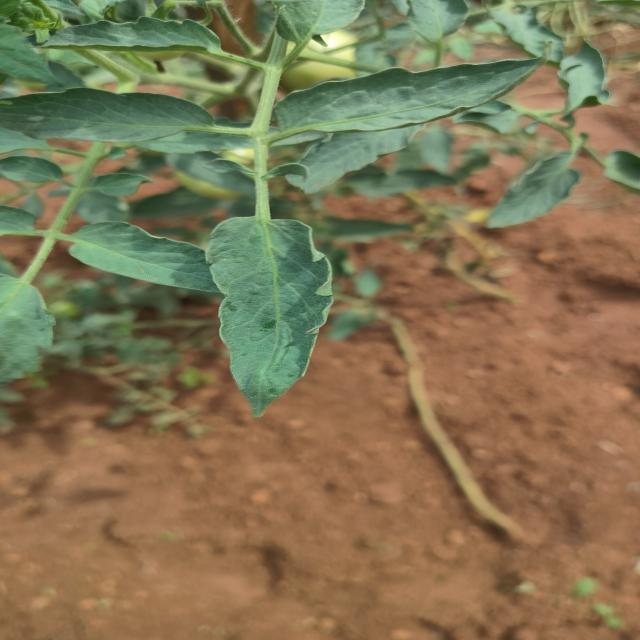tomato_healthy: (207, 216, 343, 414), (275, 58, 542, 134), (0, 91, 221, 142)
